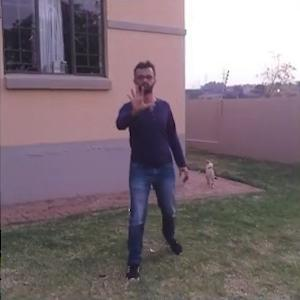follow_hand: (124, 79, 157, 118)
